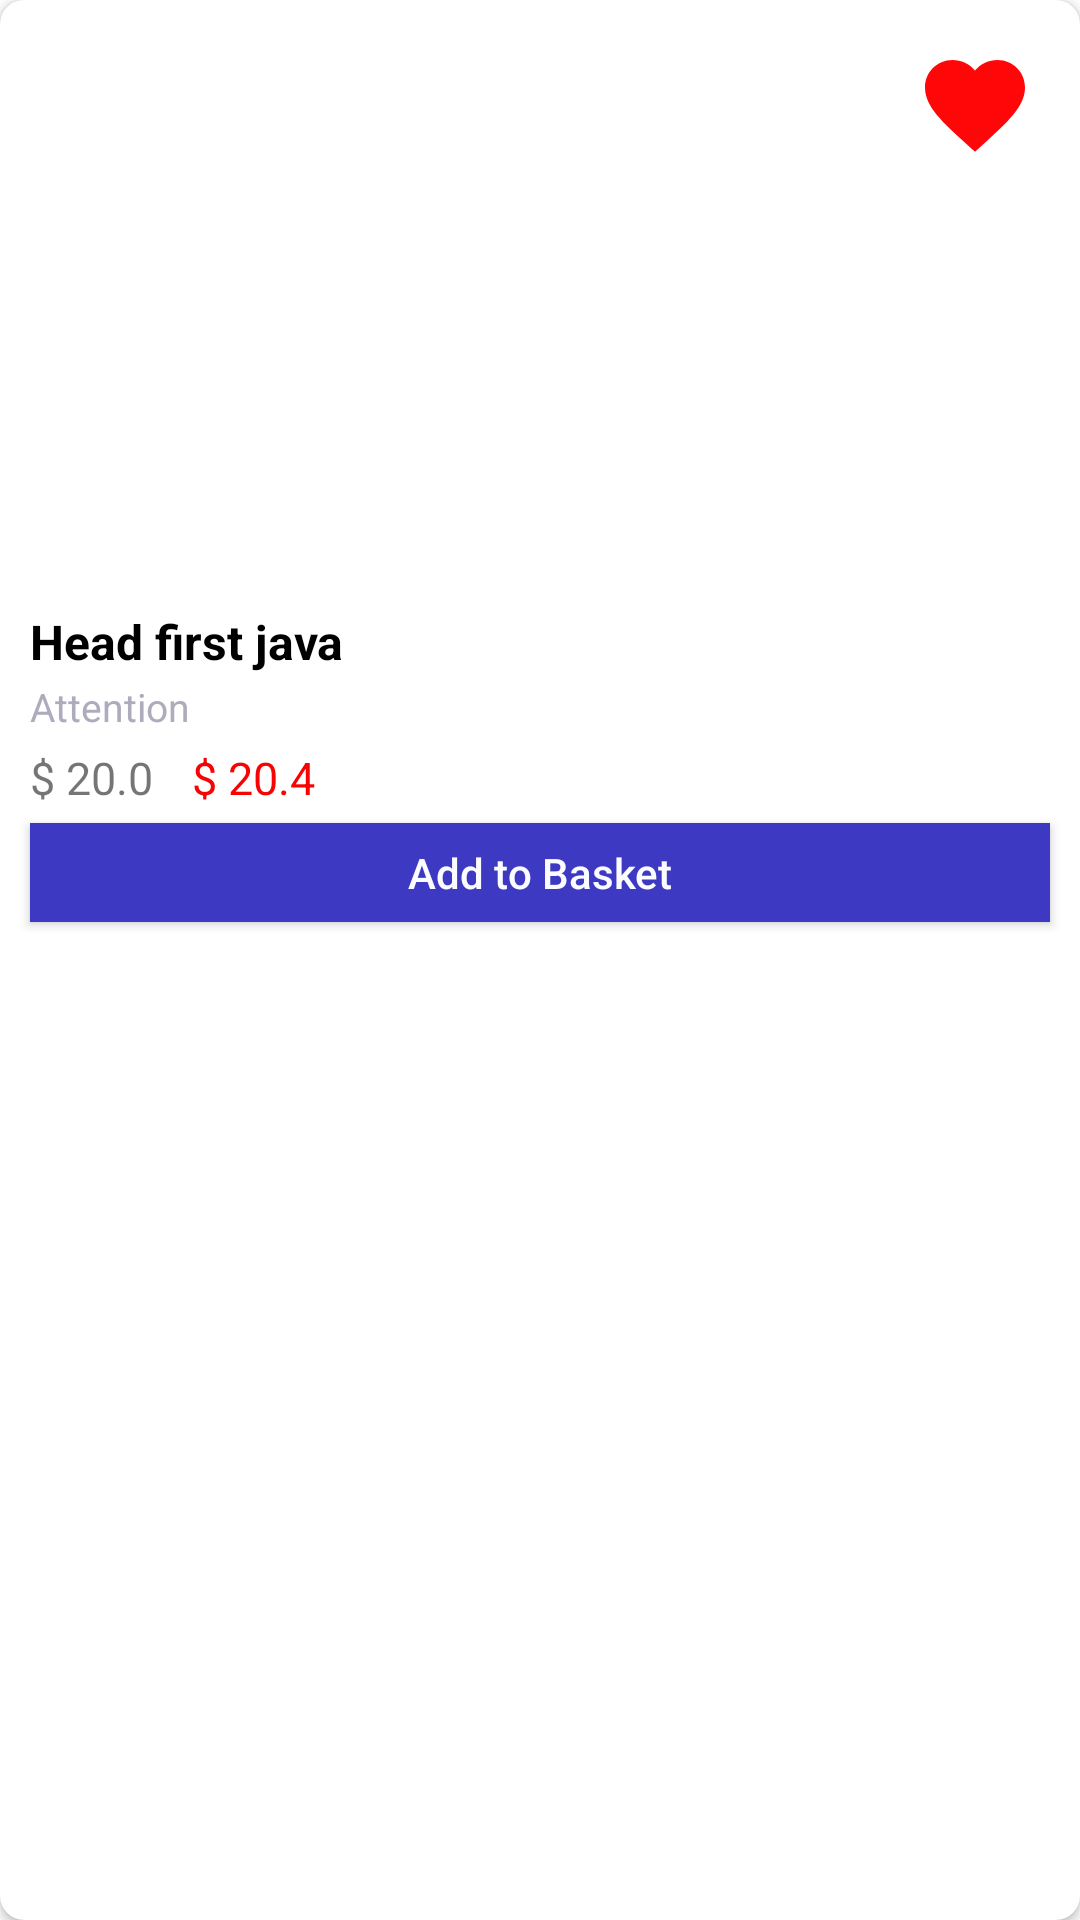

Point at icon controls on the screen. Image size 1080 × 1920, points as [x,y].
favorite: [975,106]
